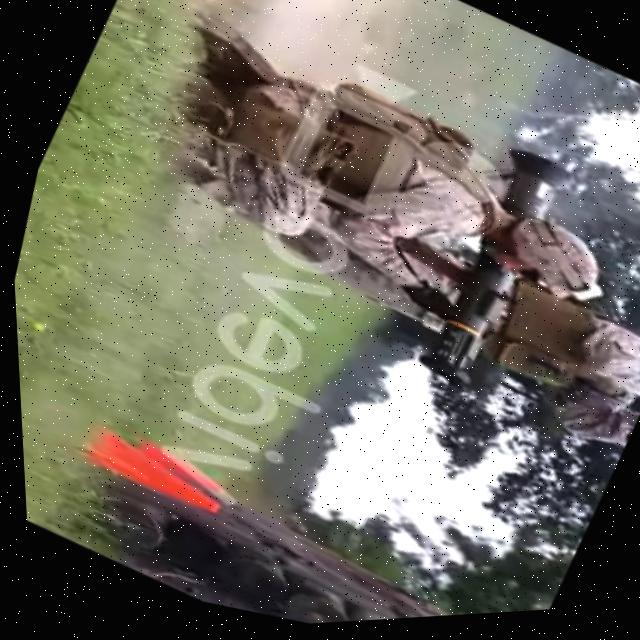rocket: (391, 136, 584, 415)
